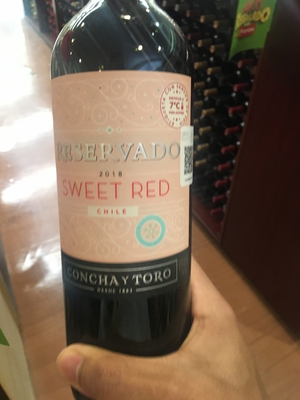reservado sweet red: (46, 8, 197, 363)
